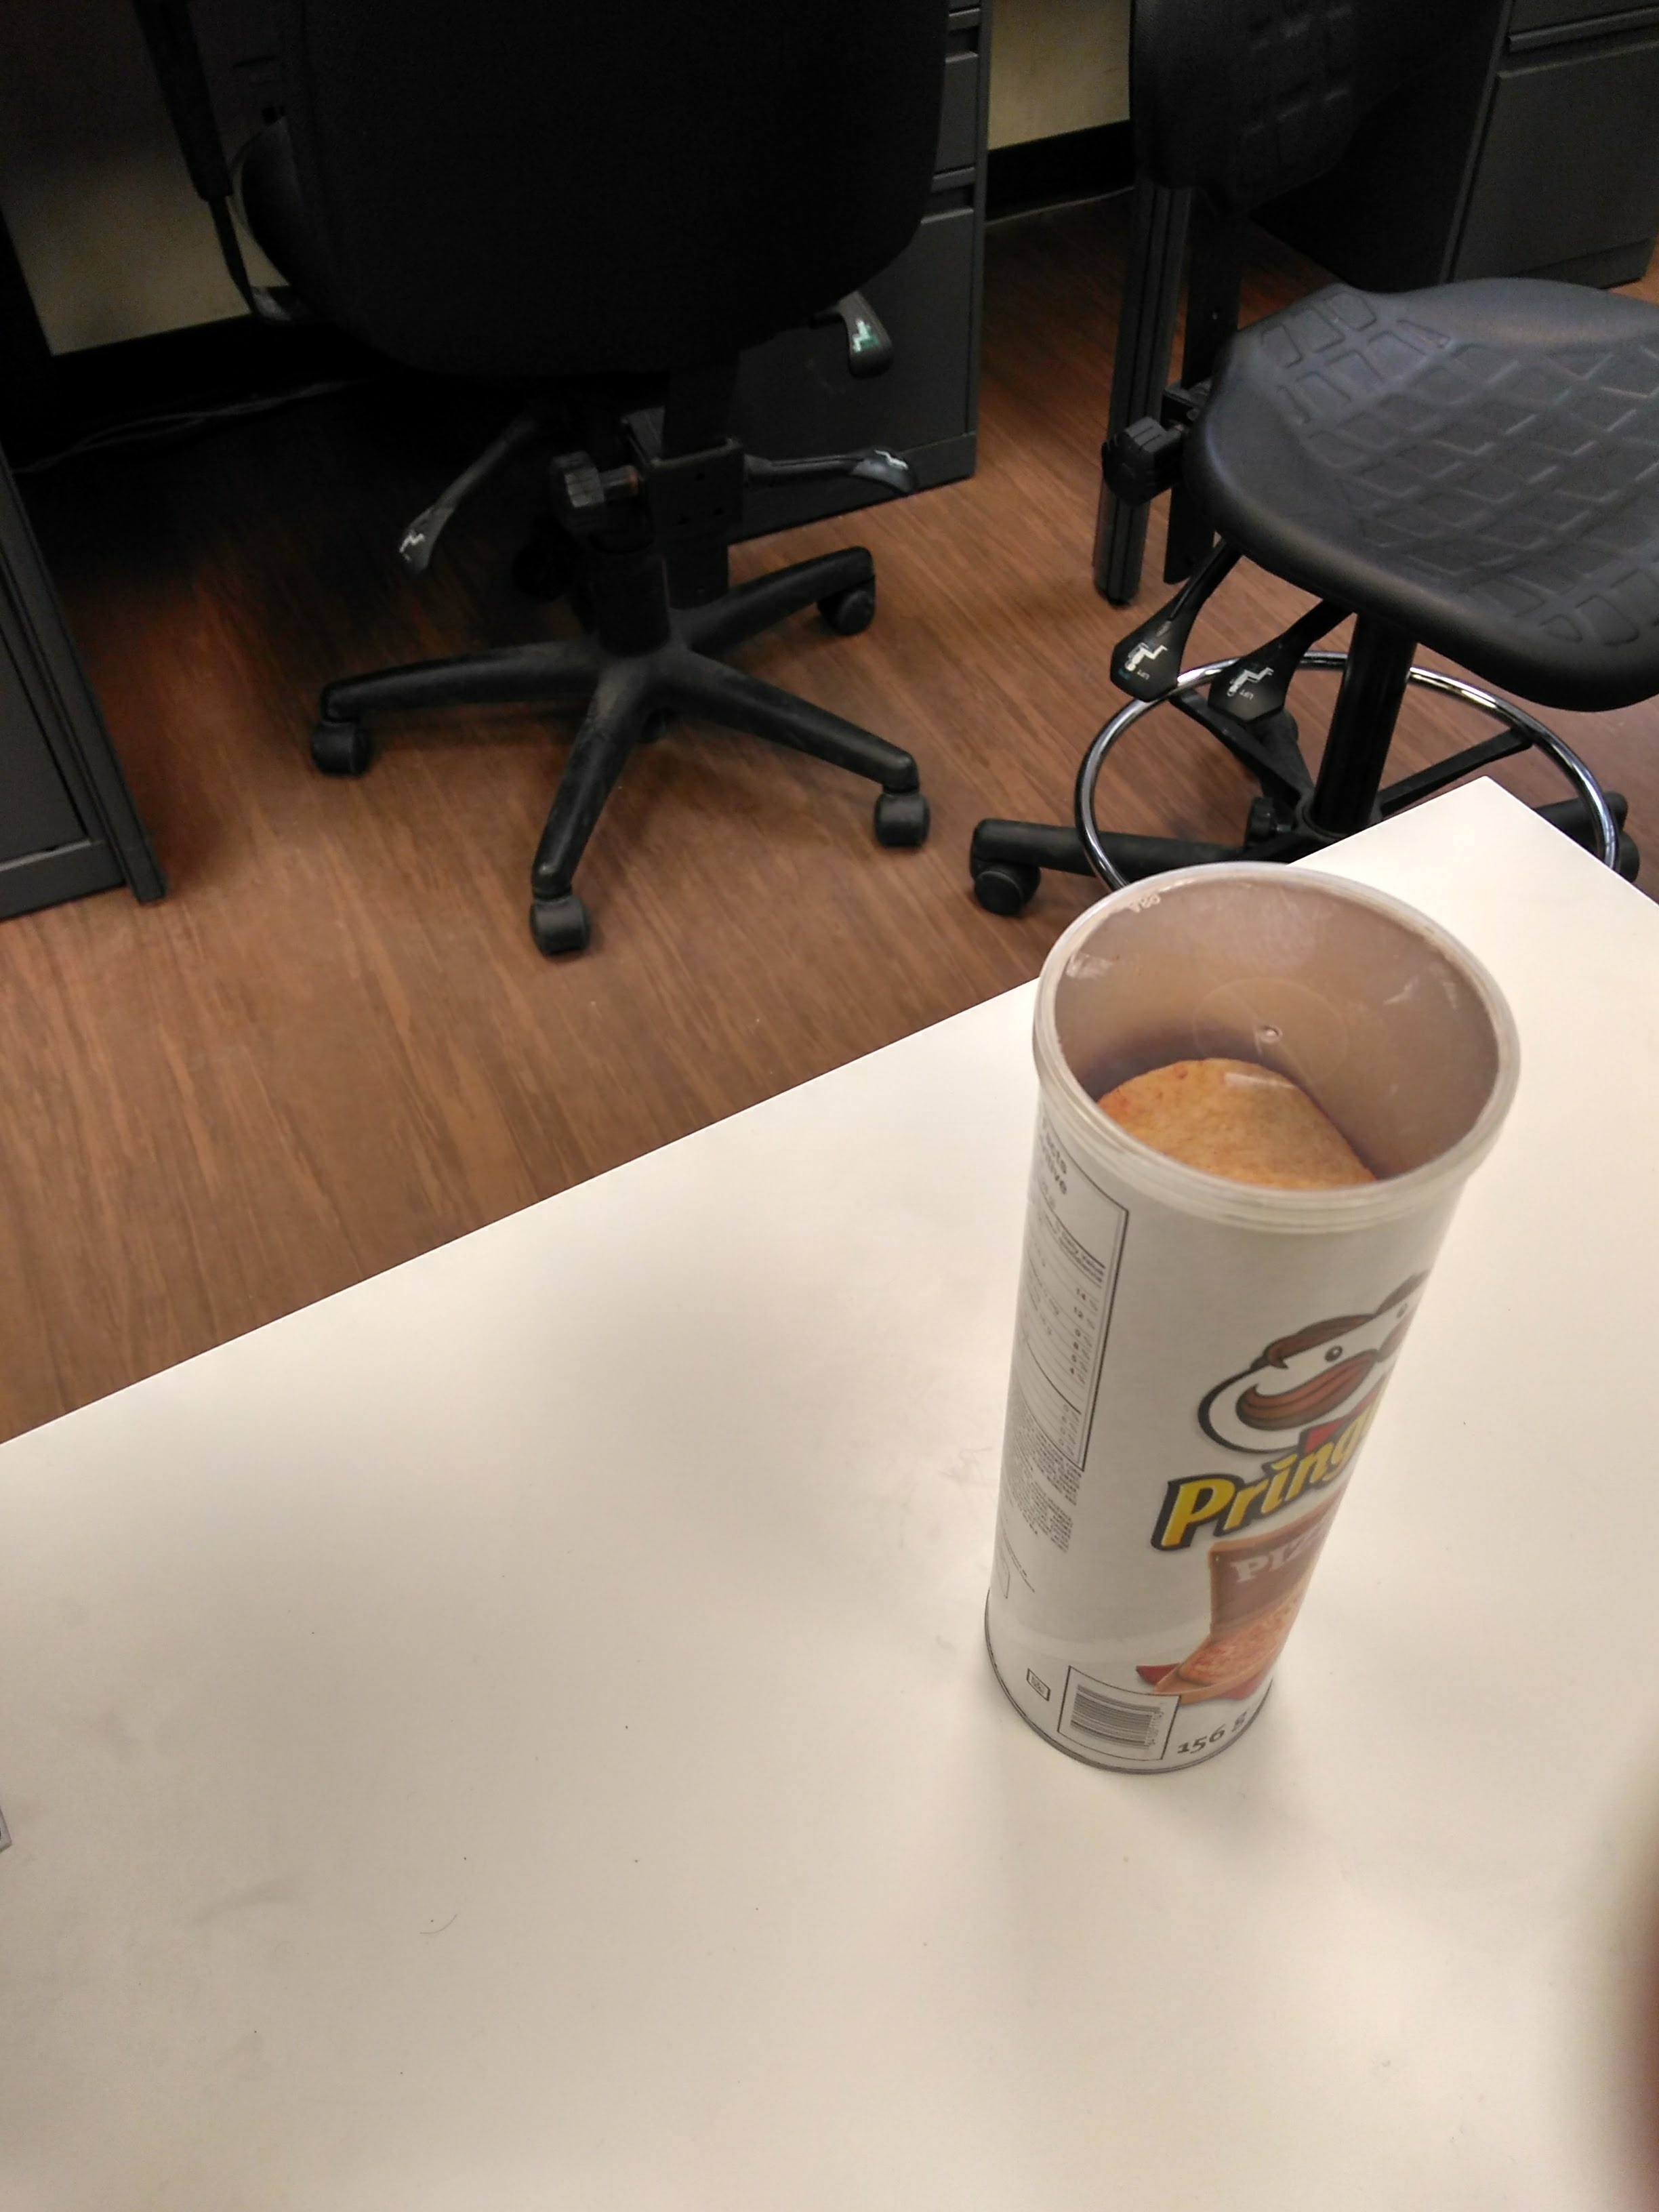pringles: (939, 826, 1546, 1820)
